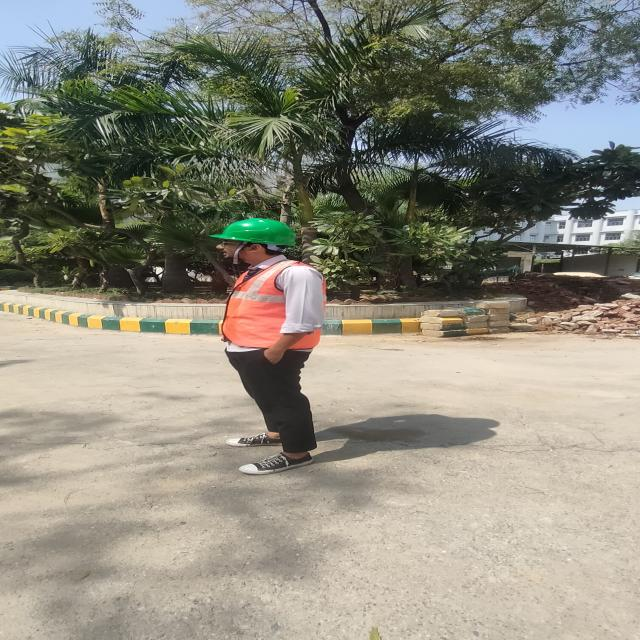safe: (208, 218, 326, 475)
